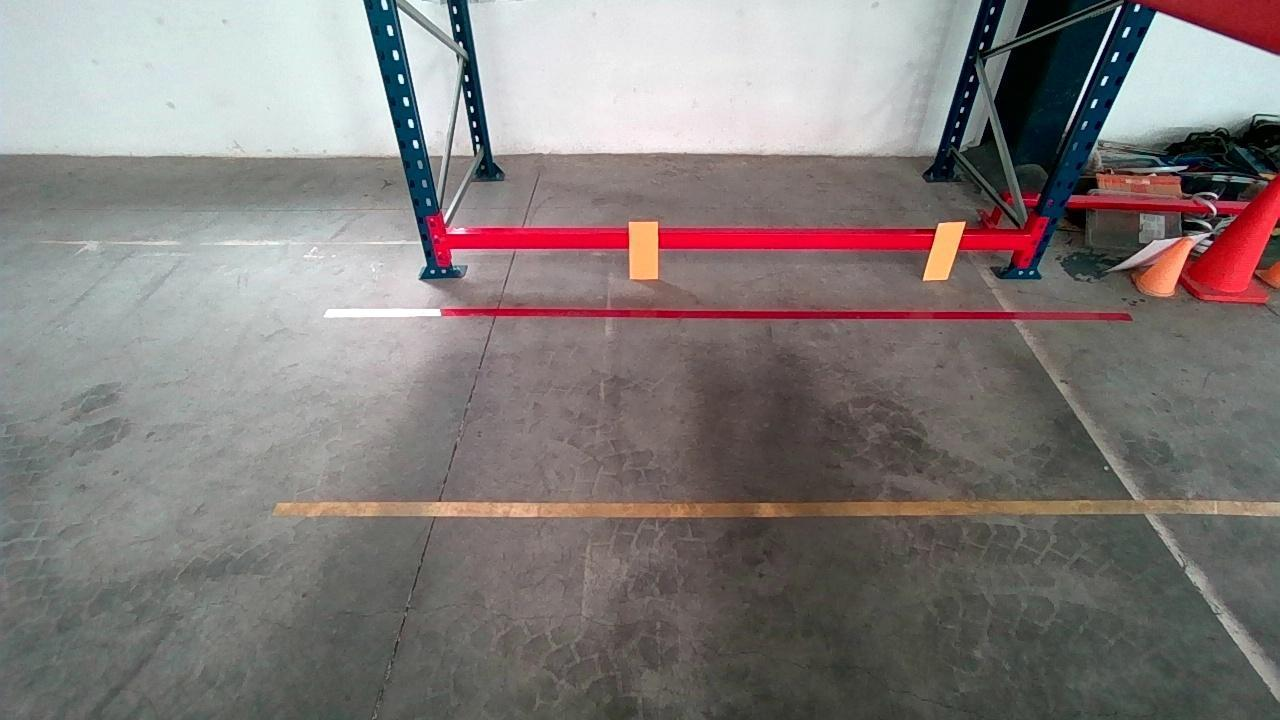h_rack: (444, 235, 1032, 249)
orange_strip: (923, 221, 968, 279), (629, 220, 659, 278)
red_line: (323, 309, 1130, 320)
yellow_line: (274, 499, 1280, 517)
